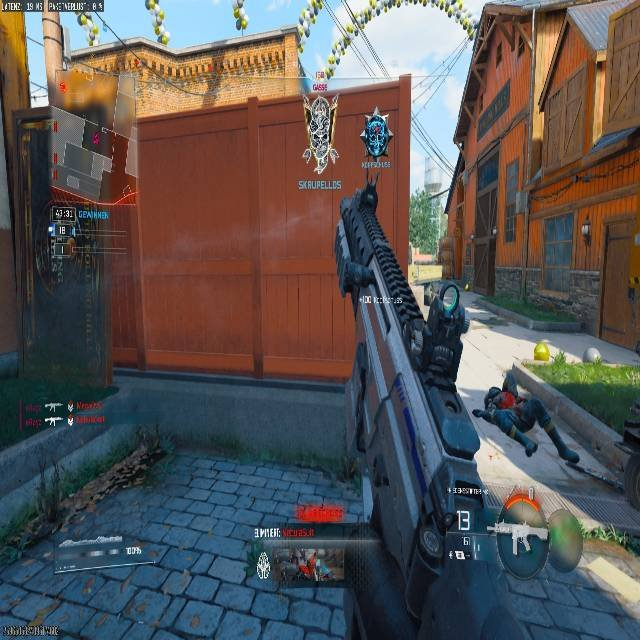head: (484, 385, 503, 408)
player: (360, 110, 392, 160)
